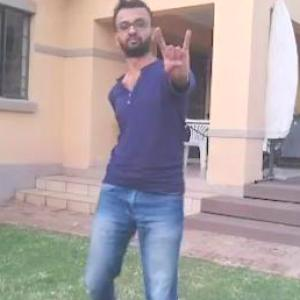takeoff-hand: (148, 22, 201, 86)
